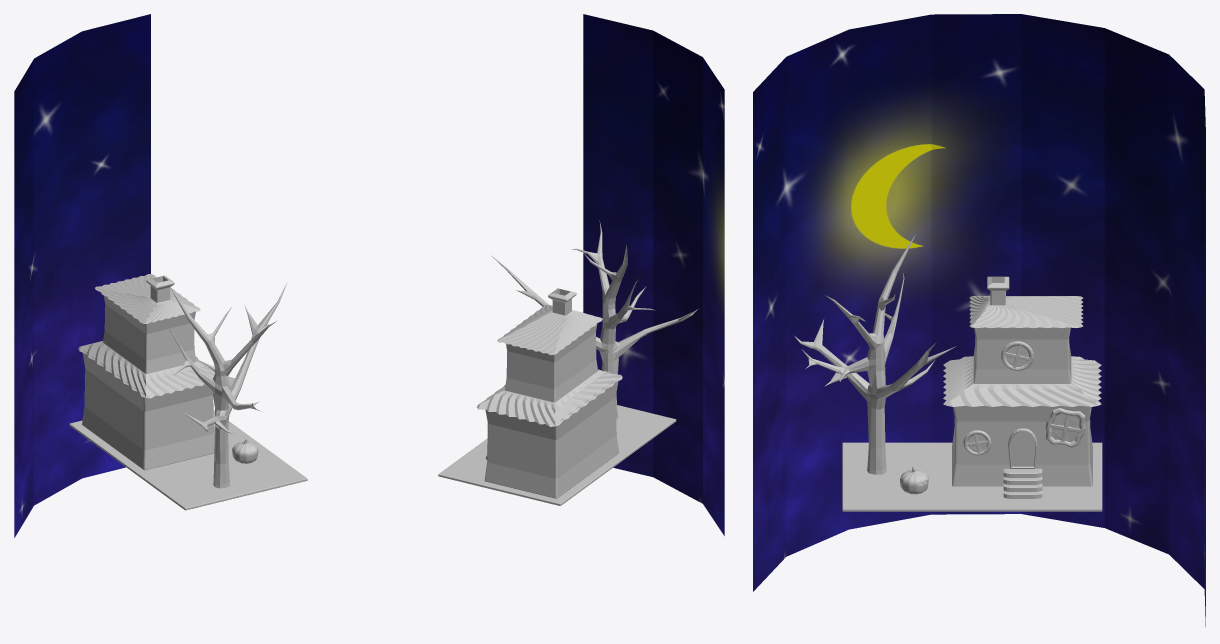
File: HalloweenHouse_obj.obj
3 renders of one model, left to right at view 1: azimuth 30°, elevation 25°; view 2: azimuth 150°, elevation 25°; view 3: azimuth 270°, elevation 25°, orthographic. The views are drawn at different scales.
Visible parts, largest first — view 1: Cylinder, Cube.001; view 2: Cylinder, Cube.001; view 3: Cylinder, Cube.001.
Part boxes in pixels (x1=…): Cylinder: x1=14, y1=14, x2=150, y2=537; Cube.001: x1=69, y1=274, x2=307, y2=510; Cylinder: x1=583, y1=14, x2=724, y2=535; Cube.001: x1=438, y1=221, x2=697, y2=505; Cylinder: x1=753, y1=14, x2=1205, y2=626; Cube.001: x1=794, y1=235, x2=1102, y2=511.
Bounding box in the file's own units: 18.88 × 35.91 × 29.46.
